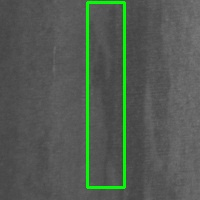inclusion: (87, 2, 124, 187)
